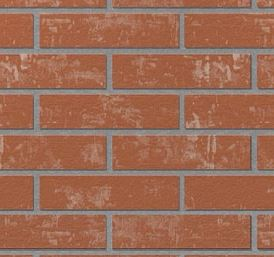brick: (38, 11, 180, 51), (111, 53, 254, 91), (110, 135, 252, 172), (39, 95, 181, 131), (111, 214, 253, 250), (39, 175, 180, 211), (1, 51, 109, 91), (1, 134, 108, 172), (1, 213, 108, 250), (183, 93, 274, 132), (183, 12, 274, 50), (183, 174, 274, 211), (1, 12, 36, 48), (1, 94, 36, 130), (1, 173, 36, 209), (256, 135, 274, 174), (256, 215, 274, 250), (257, 54, 274, 90)
